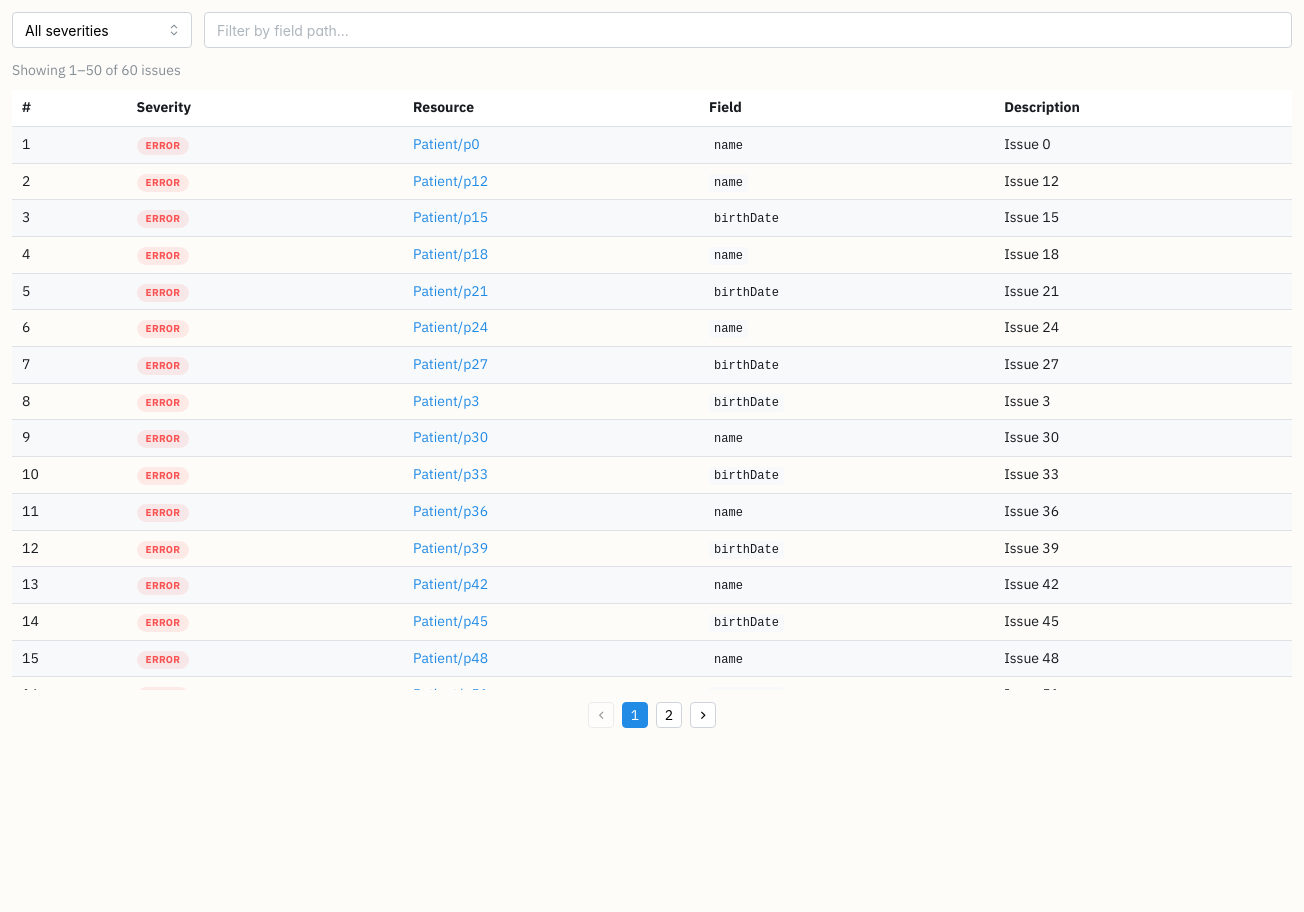
Test case: ResourceIssueTable › filter change resets page to 1
This screenshot has width=1304, height=912.
Note: Go to page 2
Click the button "2" at (669, 715), box [656,702,682,728]
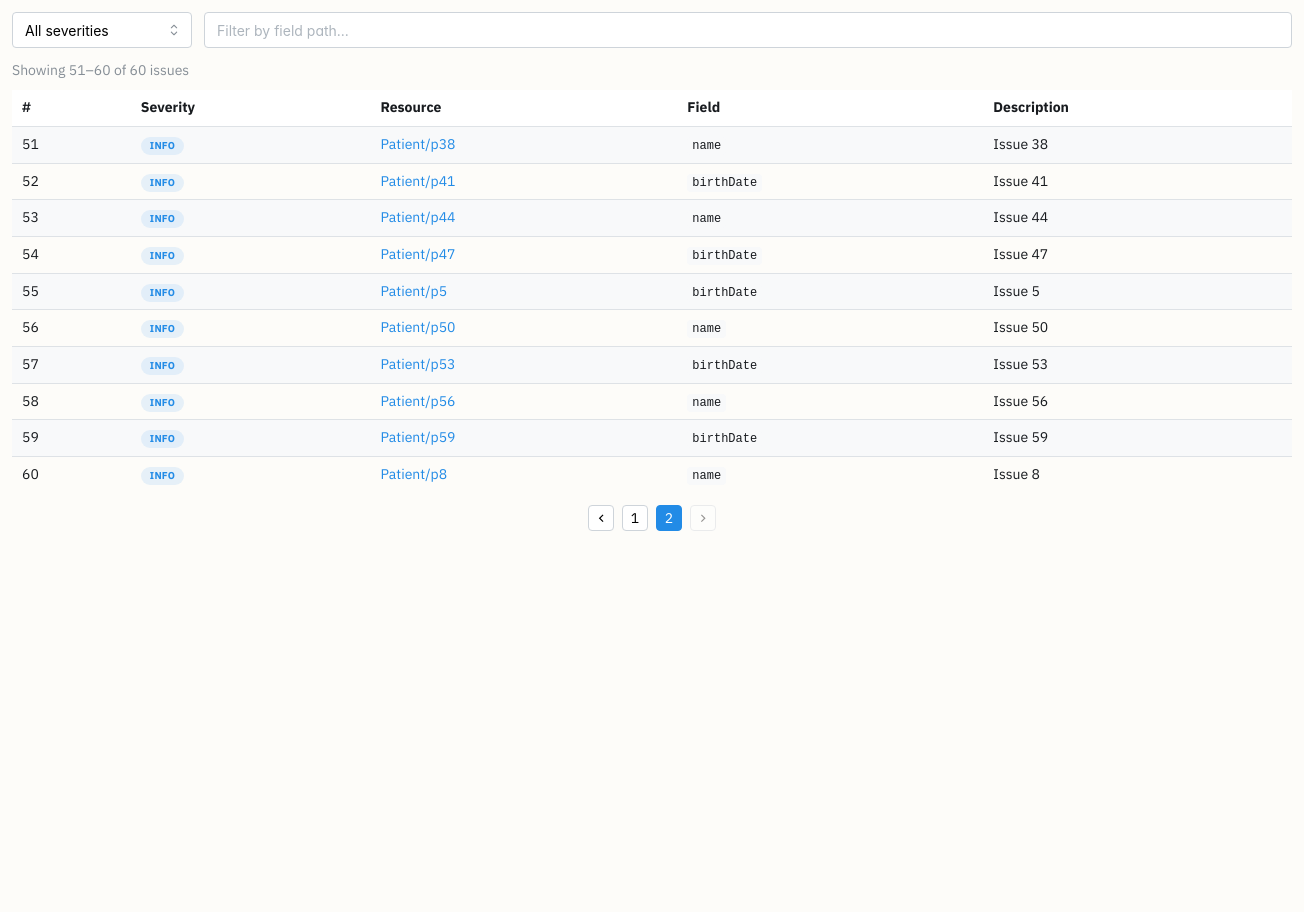
Expected: the text "Showing 51–60 of 60 issues" is shown, [12,61,189,79]
Note: Change severity filter -- should reset to page 1
Click the field named "Filter by severity" at (102, 30), box [12,12,192,48]
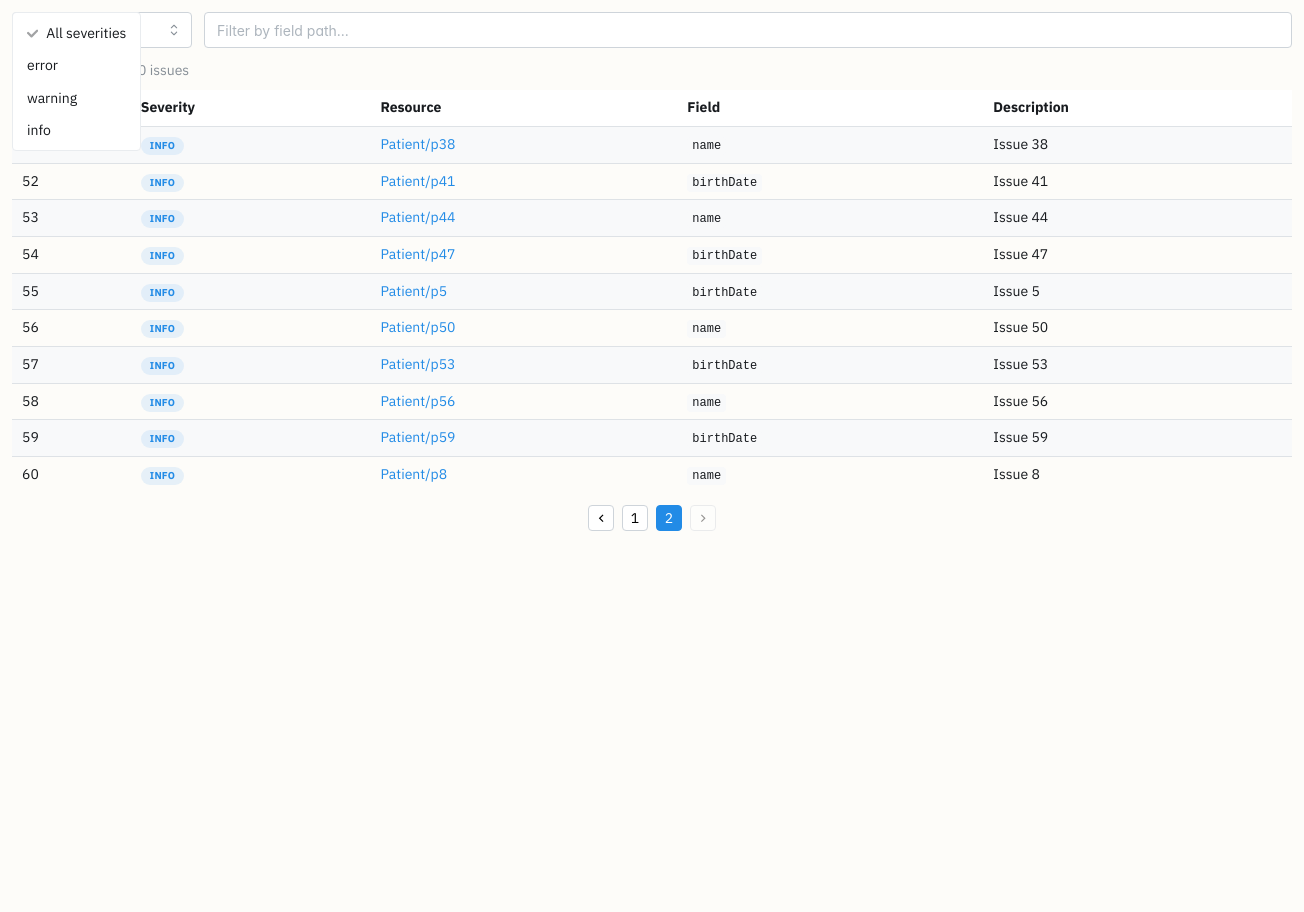
Expected: the option "error" is shown
Click the option "error" at (42, 65), box [27,56,58,74]
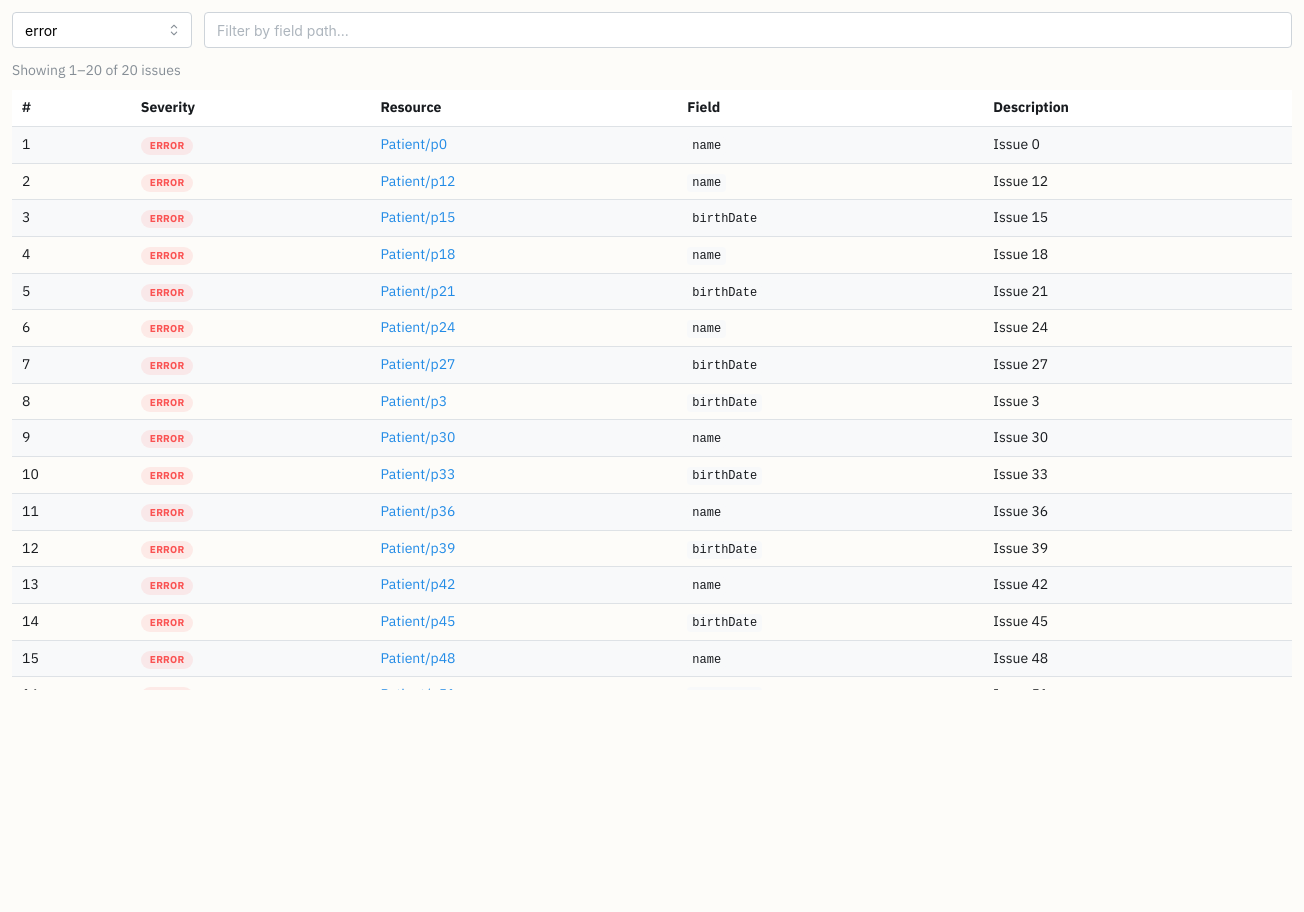
Expected: the text "Showing 1–20 of 20 issues" is shown, [12,61,181,79]
